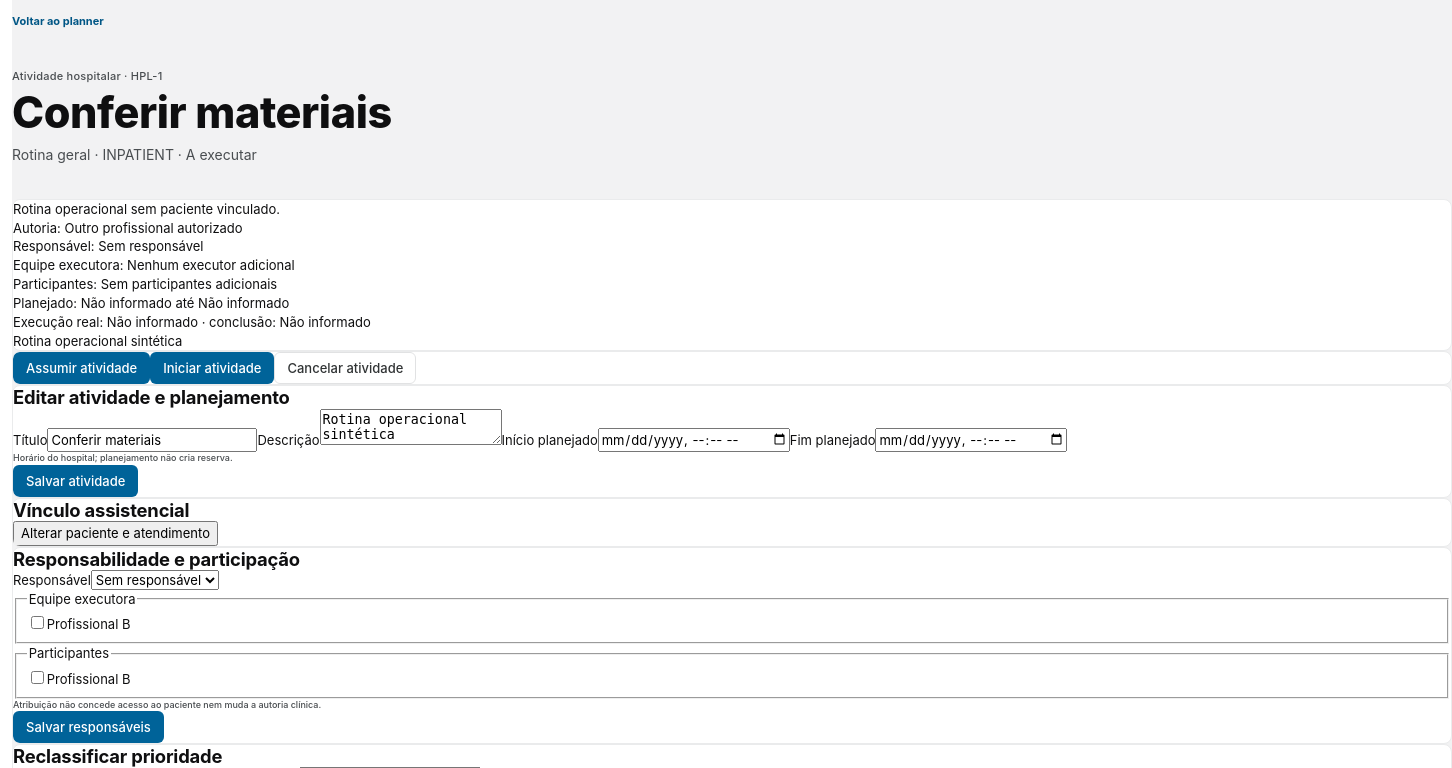
Scenario: preserves an unsaved edit when realtime receives a newer version and requires reconciliation
Replace the text in the field labelled "Título" with "Meu texto ainda não salvo": point(152, 440) [47,428,257,452]
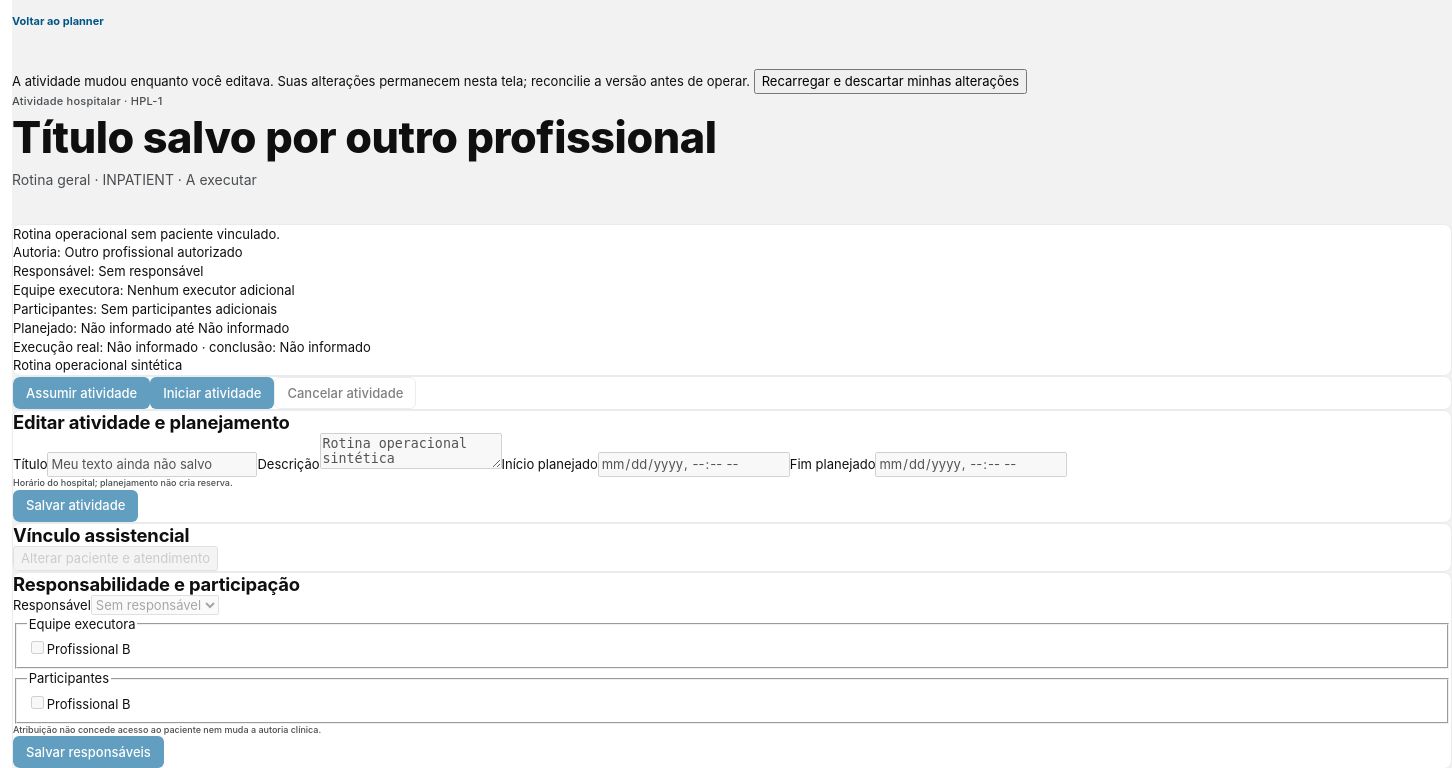
Expected: the button "Salvar atividade" is disabled, [13,490,138,522]
Expected: the text "A atividade mudou enquanto você editava" is shown, [12,73,754,89]
Submit the form named "Editar atividade hospitalar", box [13,433,1068,522]
Click the button "Recarregar e descartar minhas alterações": point(890, 81) [754,69,1027,94]
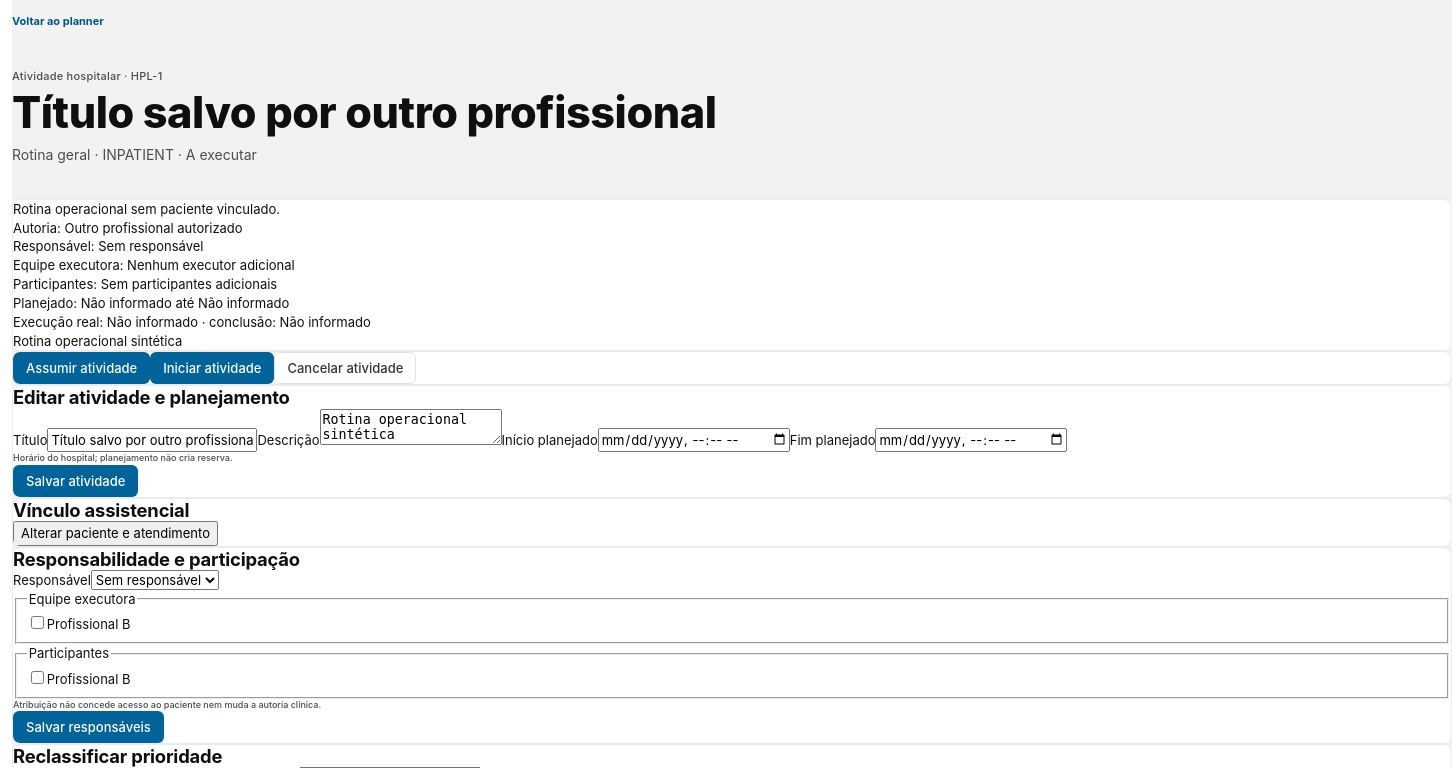
Expected: the button "Salvar atividade" is enabled, [13,465,138,497]
Expected: the field labelled "Título" holds "Título salvo por outro profissional", [47,428,257,452]
